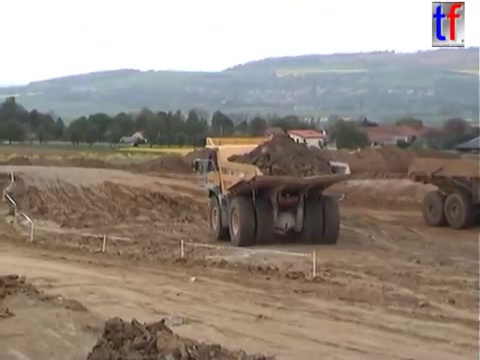truck: (190, 134, 354, 248), (405, 155, 480, 230)
